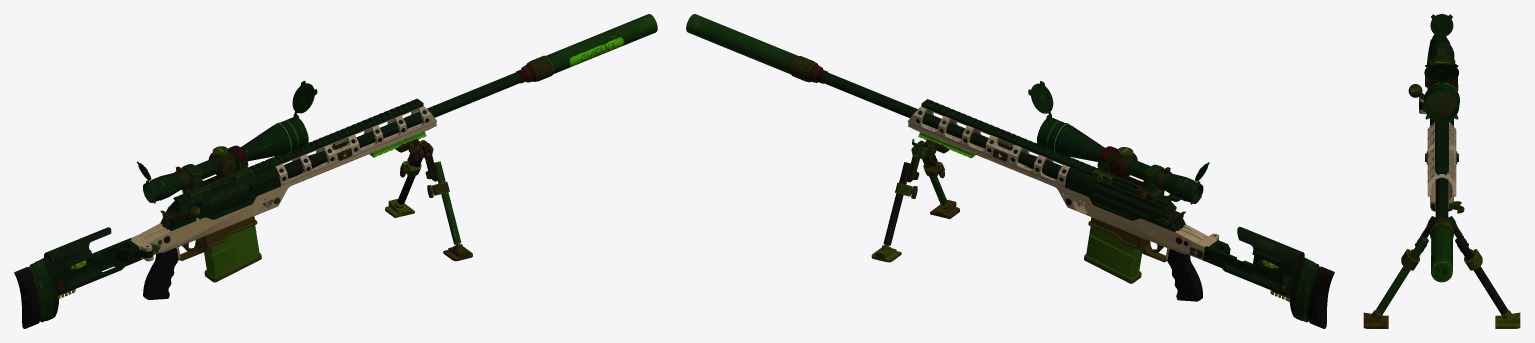
File: awp.glb
3 views of the same model, side by side, from view 1: azimuth 30°, elevation 25°; view 2: azimuth 150°, elevation 25°; view 3: azimuth 270°, elevation 25° (orthographic). The views are drawn at different scales.
Parts seen in each view (by area): view 1: polySurface1202_bipod_bolts1_0; view 2: polySurface1202_bipod_bolts1_0; view 3: polySurface1202_bipod_bolts1_0.
Boxes of the visible parts, x1,y1,x2,y2 form: polySurface1202_bipod_bolts1_0: (14, 14, 657, 328); polySurface1202_bipod_bolts1_0: (686, 14, 1334, 328); polySurface1202_bipod_bolts1_0: (1363, 14, 1520, 328).
Bounding box in the file's own units: 4 × 1.06 × 0.7685.
Materials: 14 (14 with a texture image).
